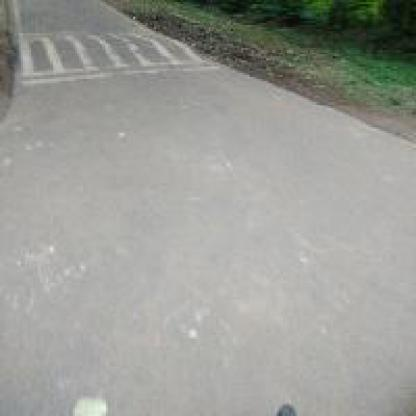Speed Bump: (19, 21, 200, 81)
